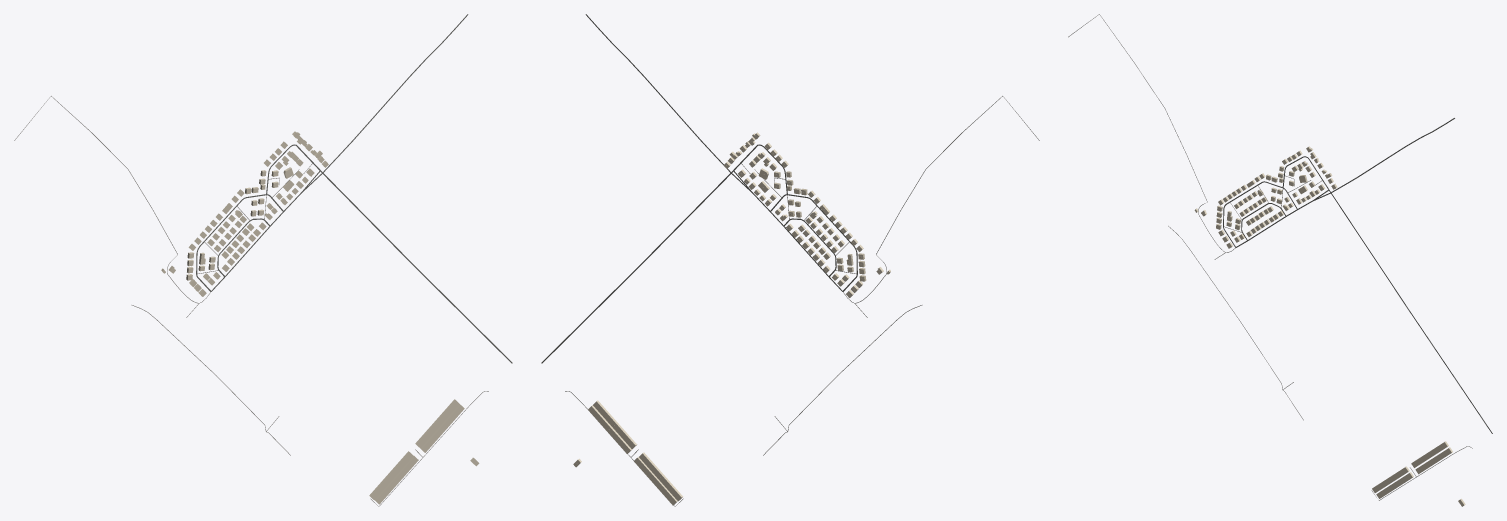
Rendered from historic-palestine-07_25_3486_3198.glb.
3 views of the same model, side by side, from view 1: azimuth 30°, elevation 25°; view 2: azimuth 150°, elevation 25°; view 3: azimuth 330°, elevation 25° (orthographic). The views are drawn at different scales.
Size of the model in its own units: 1448 by 1364 by 8.7.
